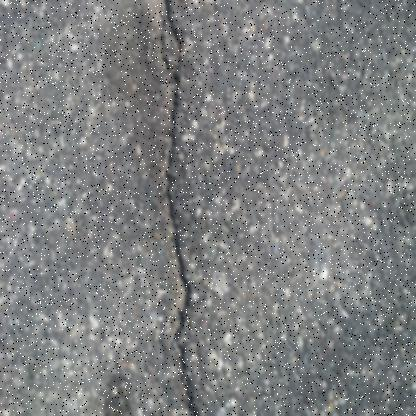Cracks: (157, 0, 201, 416)
